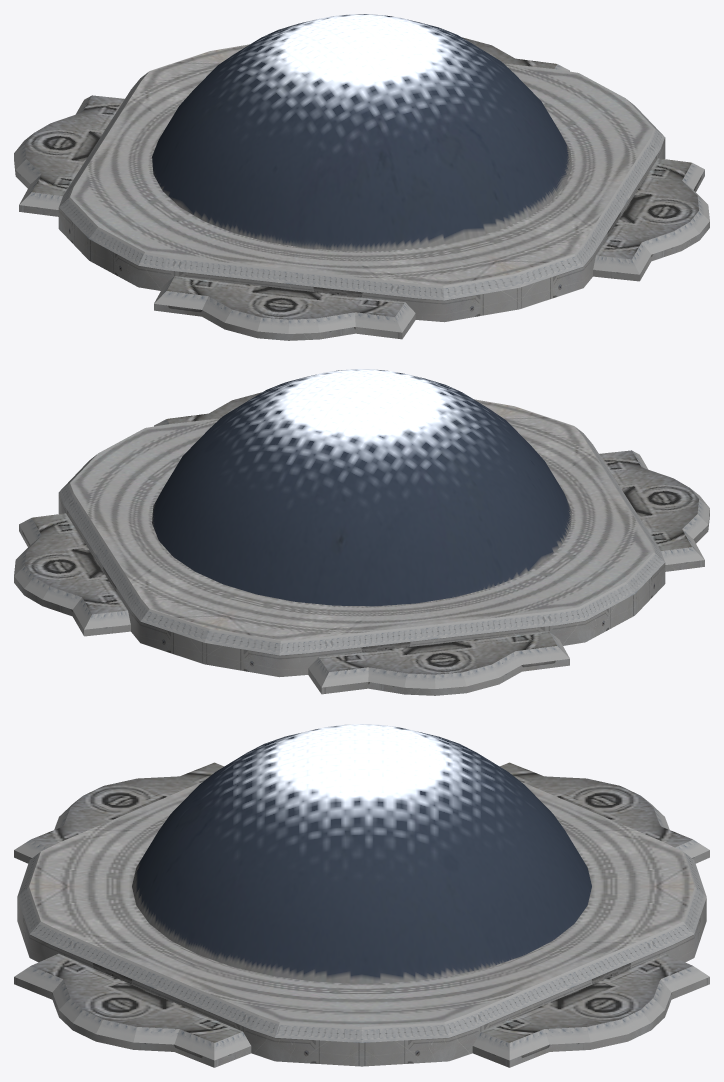
Rendered from SM_Light2.fbx.
3 views of the same model, one above another, from view 1: azimuth 30°, elevation 25°; view 2: azimuth 150°, elevation 25°; view 3: azimuth 270°, elevation 25° (orthographic). The views are drawn at different scales.
Parts seen in each view (by area): view 1: SM_Light2_LOD0; view 2: SM_Light2_LOD0; view 3: SM_Light2_LOD0.
Boxes of the visible parts, x1,y1,x2,y2 form: SM_Light2_LOD0: (14,14,709,340); SM_Light2_LOD0: (14,369,709,695); SM_Light2_LOD0: (14,724,709,1067).
Bounding box in the file's own units: 29.32 × 29.33 × 8.08.
3 materials, 3 textured.
